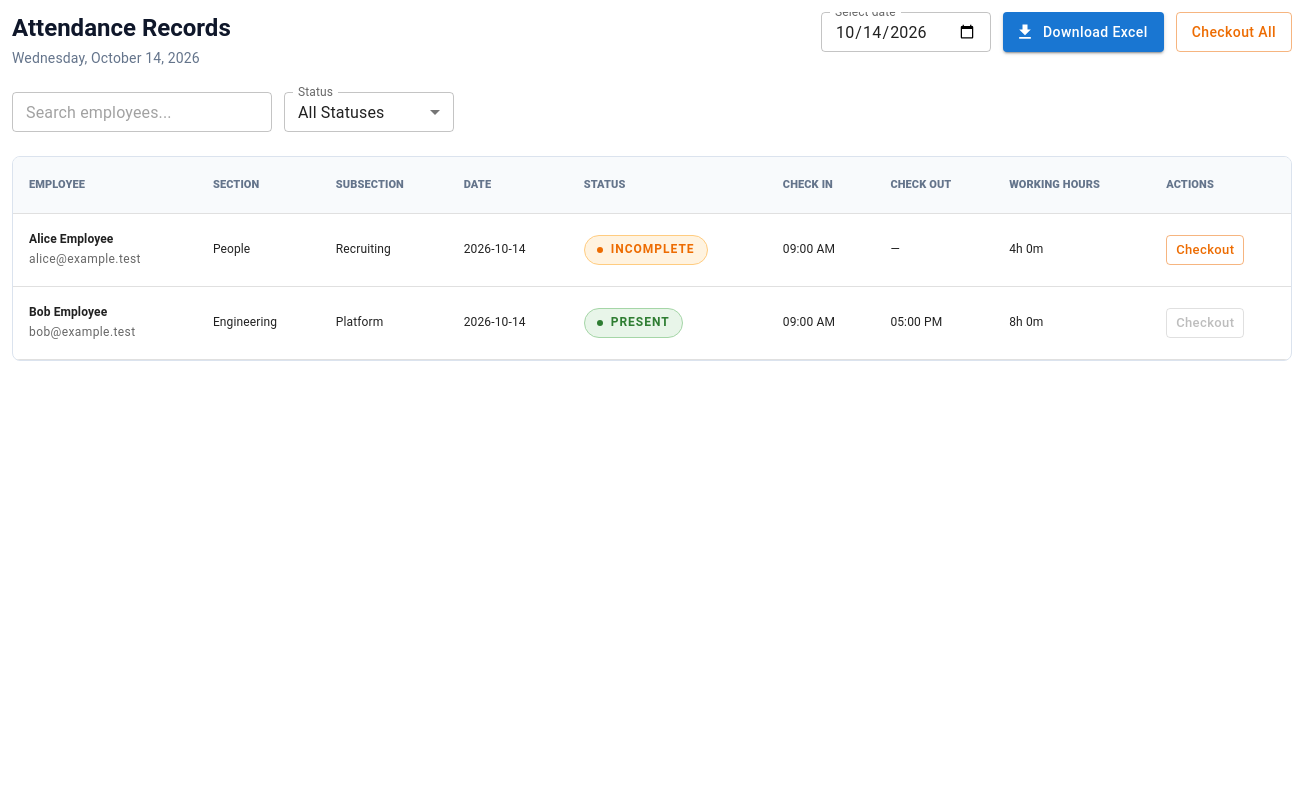
Test: sends a checkout request for the selected employee and reports success
The width and height of the screenshot is (1304, 812).
Expected: the text "Alice Employee" is shown, [29, 232, 114, 246]
What coordinates should you click on to do the following:
click the button "Checkout" in the row of "Alice Employee"
I would click on:
 (1205, 250)
Its box is [1166, 235, 1244, 265].
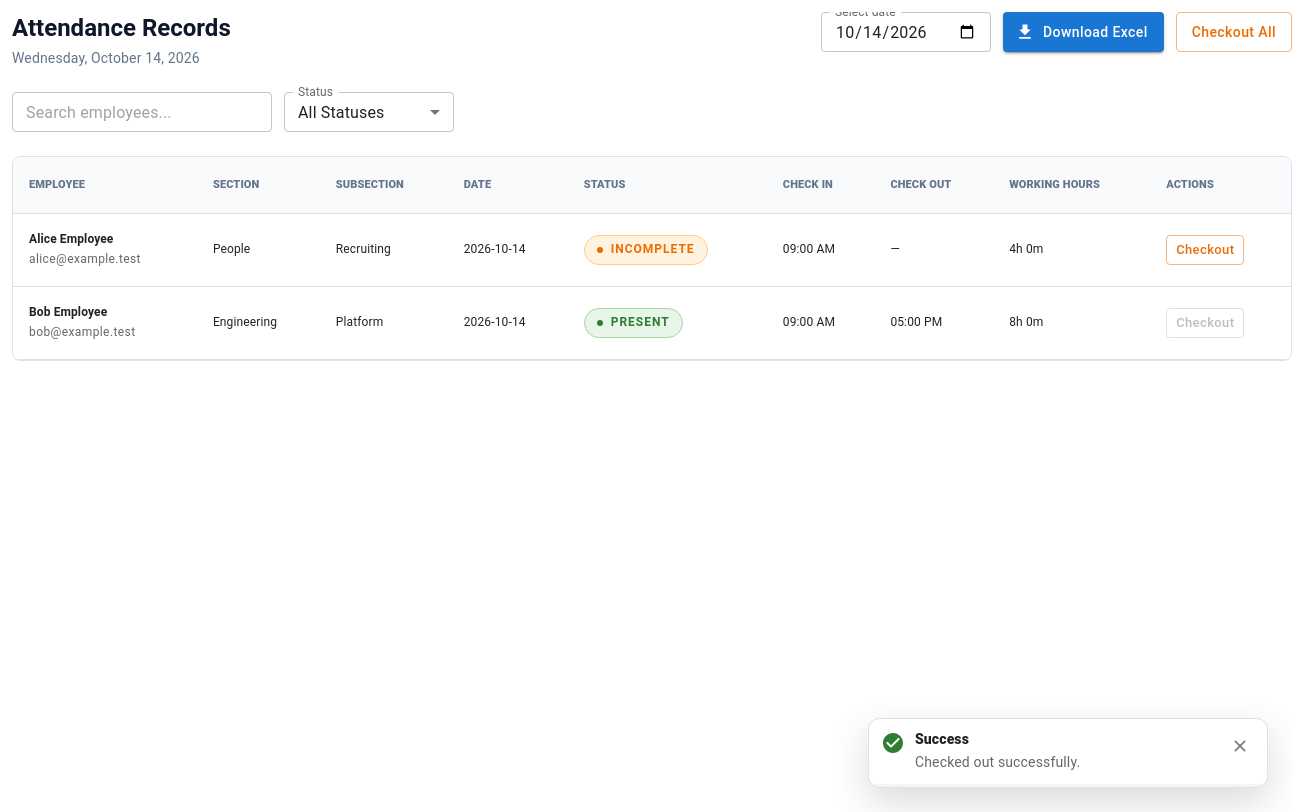
Result: the text "Checked out successfully." is shown at [915, 754, 1080, 770]
